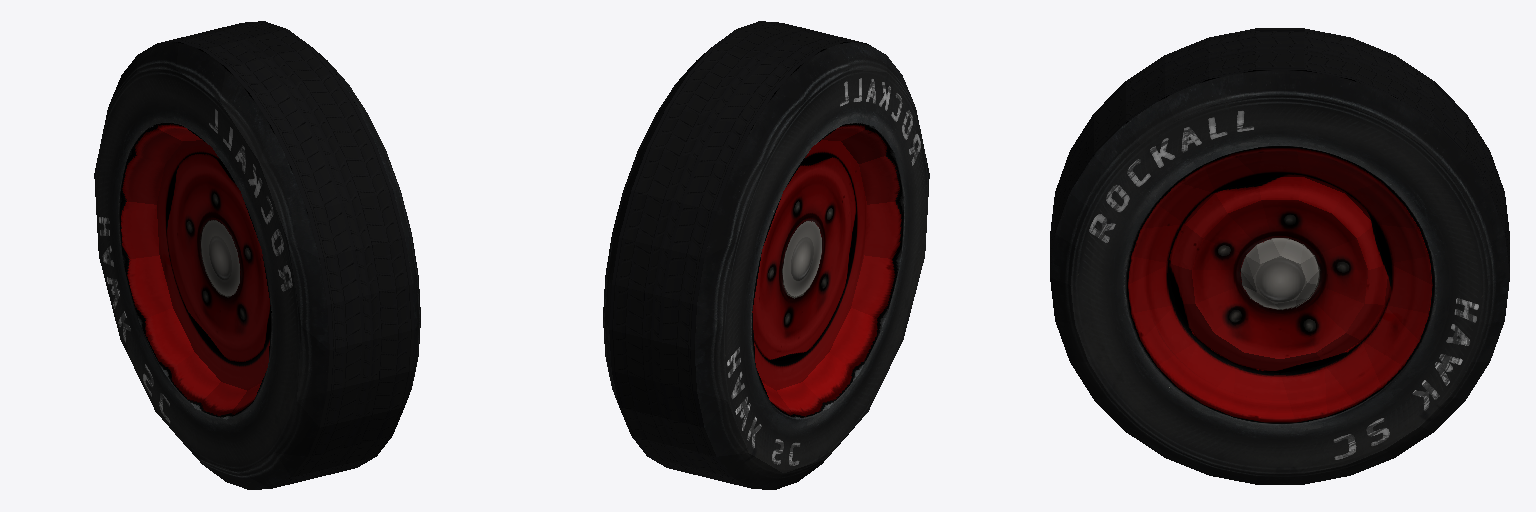
3 renders of one model, left to right at view 1: azimuth 30°, elevation 25°; view 2: azimuth 150°, elevation 25°; view 3: azimuth 270°, elevation 25°, orthographic.
Parts seen in each view (by area): view 1: Wheel_FR; view 2: Wheel_FR; view 3: Wheel_FR.
Boxes of the visible parts, <box> form: Wheel_FR: <box>94,21,420,489</box>; Wheel_FR: <box>603,21,929,489</box>; Wheel_FR: <box>1050,28,1509,484</box>.
Bounding box in the file's own units: 4.72 × 15.51 × 15.59.
Materials: 1 (1 with a texture image).